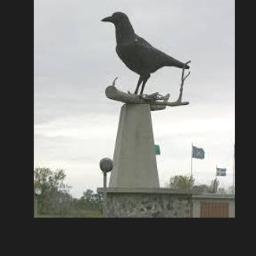Crow: (101, 11, 191, 100)
